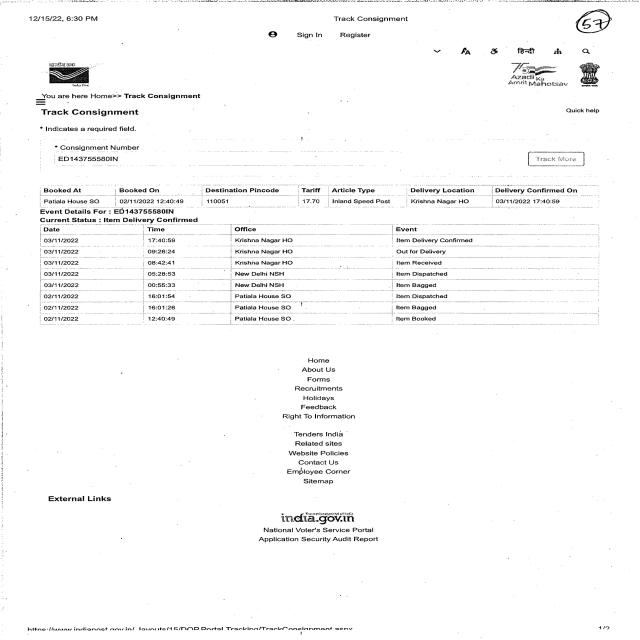page-number: (484, 3, 640, 44)
